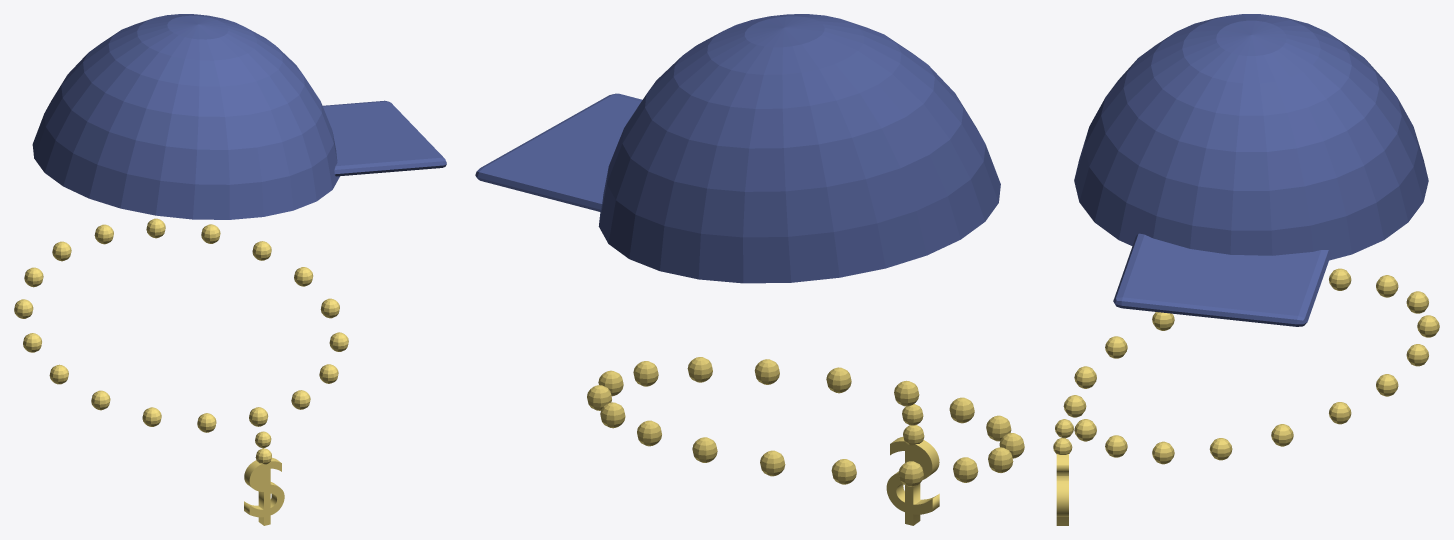
The model's file is 03-casquette-chaine.glb.
3 views of the same model, side by side, from view 1: azimuth 30°, elevation 25°; view 2: azimuth 150°, elevation 25°; view 3: azimuth 270°, elevation 25° (orthographic). The views are drawn at different scales.
Parts seen in each view (by area): view 1: casquette-coque, casquette-visiere, pendentif-dollar; view 2: casquette-coque, casquette-visiere, pendentif-dollar; view 3: casquette-coque, casquette-visiere, pendentif-dollar.
Boxes of the visible parts, x1,y1,x2,y2 form: casquette-coque: (32,14,339,219); casquette-visiere: (323,100,446,176); pendentif-dollar: (244,457,284,525); casquette-coque: (598,14,1000,283); casquette-visiere: (475,93,642,211); pendentif-dollar: (886,437,939,525); casquette-coque: (1074,14,1428,260); casquette-visiere: (1113,233,1331,326); pendentif-dollar: (1056,454,1068,525).
Size of the model in its own units: 1.44 by 1.6 by 1.13.
